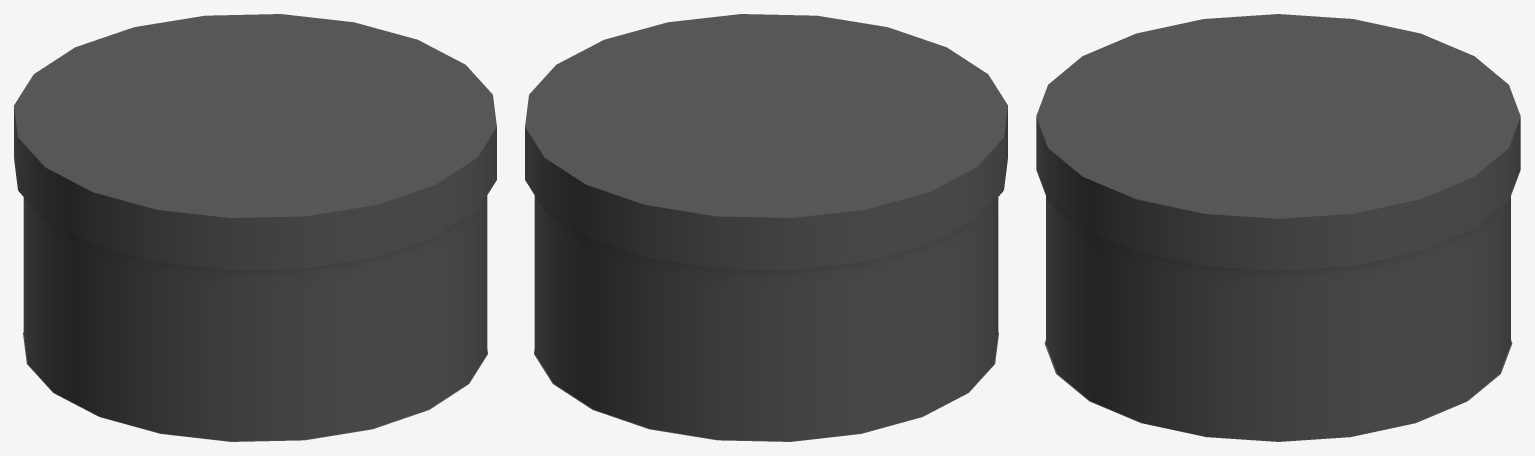
File: frl_apartment_shoebox_01.glb
3 renders of one model, left to right at view 1: azimuth 30°, elevation 25°; view 2: azimuth 150°, elevation 25°; view 3: azimuth 270°, elevation 25°, orthographic.
Parts seen in each view (by area): view 1: frl_apartment_shoebox_01; view 2: frl_apartment_shoebox_01; view 3: frl_apartment_shoebox_01.
Part boxes in pixels (x1,y1,x2,y2): frl_apartment_shoebox_01: (14, 14, 496, 441); frl_apartment_shoebox_01: (525, 14, 1007, 441); frl_apartment_shoebox_01: (1036, 14, 1520, 441).
Size of the model in its own units: 0.2989 by 0.1546 by 0.2989.
Materials: 1 (1 with a texture image).
